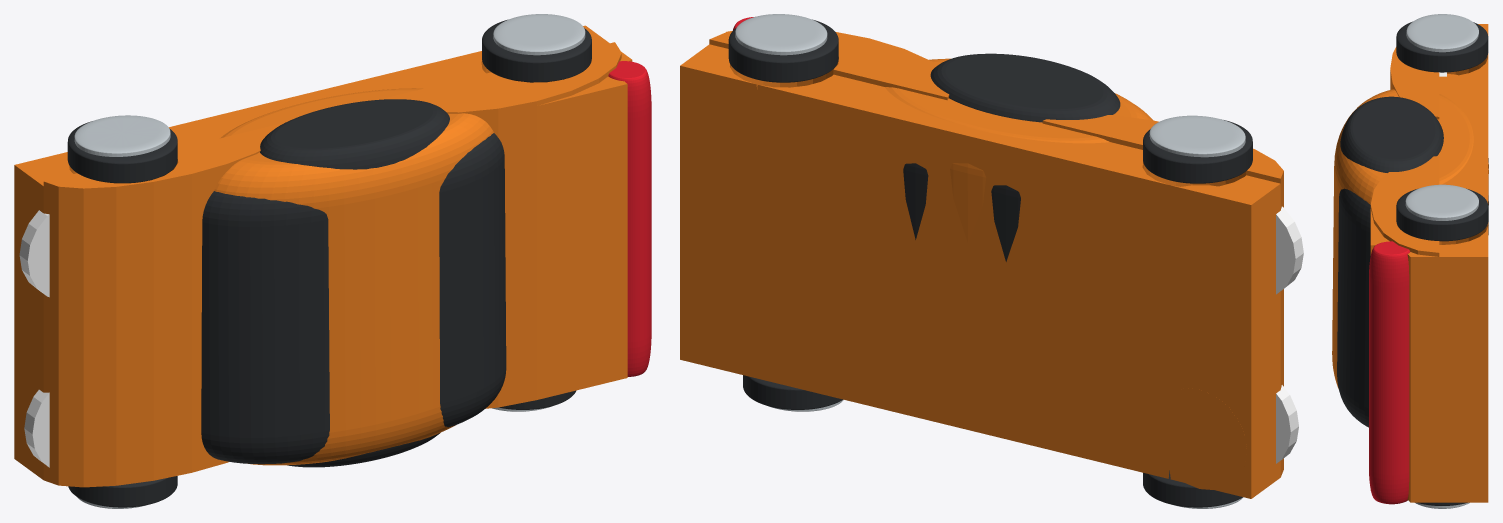
The model's file is tinker.obj.
3 renders of one model, left to right at view 1: azimuth 30°, elevation 25°; view 2: azimuth 150°, elevation 25°; view 3: azimuth 270°, elevation 25°, orthographic. The views are drawn at different scales.
Visible parts, largest first — view 1: group_0_16089887, group_0_2829873, group_0_15277357, group_0_12568524, group_0_16448250; view 2: group_0_16089887, group_0_2829873, group_0_12568524, group_0_16448250; view 3: group_0_16089887, group_0_2829873, group_0_15277357, group_0_12568524.
Boxes of the visible parts, <box> form: group_0_16089887: <box>14,25,632,487</box>; group_0_2829873: <box>67,19,591,507</box>; group_0_15277357: <box>608,61,651,376</box>; group_0_12568524: <box>74,14,585,508</box>; group_0_16448250: <box>19,210,49,467</box>; group_0_16089887: <box>680,31,1283,498</box>; group_0_2829873: <box>728,19,1252,507</box>; group_0_12568524: <box>735,14,1245,508</box>; group_0_16448250: <box>1276,206,1303,463</box>; group_0_16089887: <box>1332,24,1488,502</box>; group_0_2829873: <box>1337,21,1488,505</box>; group_0_15277357: <box>1369,241,1410,504</box>; group_0_12568524: <box>1405,14,1478,508</box>.
Size of the model in its own units: 125 by 72 by 34.13.
